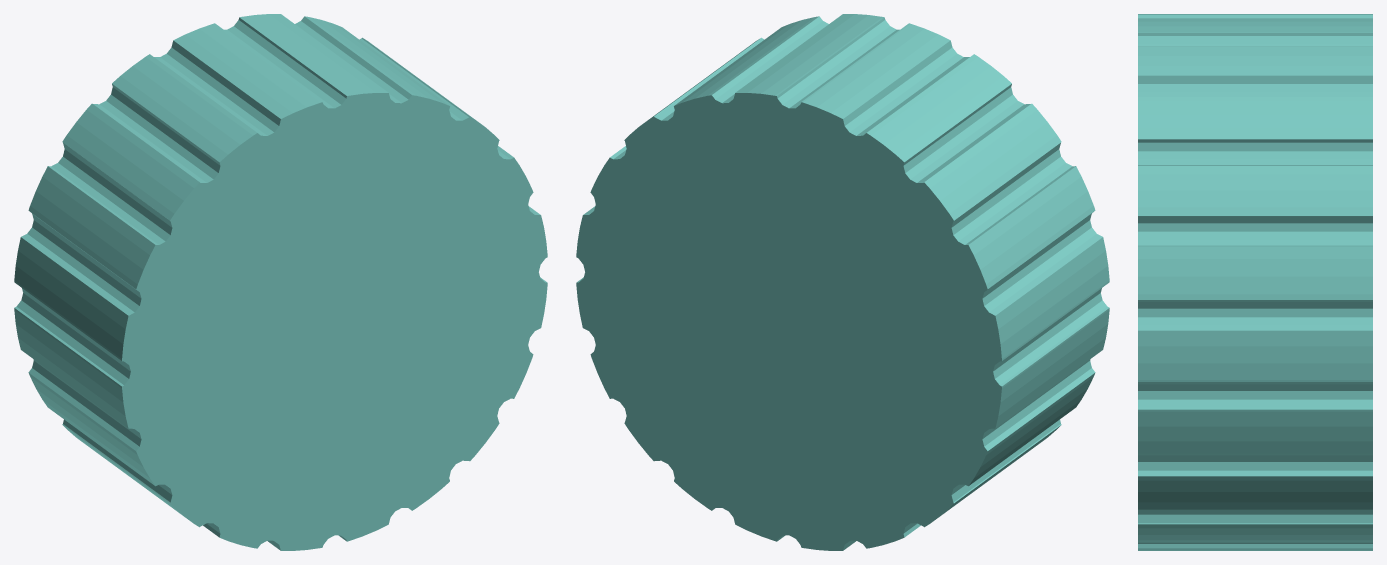
Rendered from knurl_demo.glb.
The picture shows the model from 3 angles, left to right: view 1: azimuth 30°, elevation 25°; view 2: azimuth 150°, elevation 25°; view 3: azimuth 270°, elevation 25°; orthographic projection. The views are drawn at different scales.
Visible parts, largest first — view 1: knurled_knob; view 2: knurled_knob; view 3: knurled_knob.
Part boxes in pixels (bbox=[...]): knurled_knob: bbox=[14, 14, 547, 550]; knurled_knob: bbox=[576, 14, 1109, 550]; knurled_knob: bbox=[1138, 14, 1372, 550].
Bounding box in the file's own units: 15.97 × 15.97 × 7.
